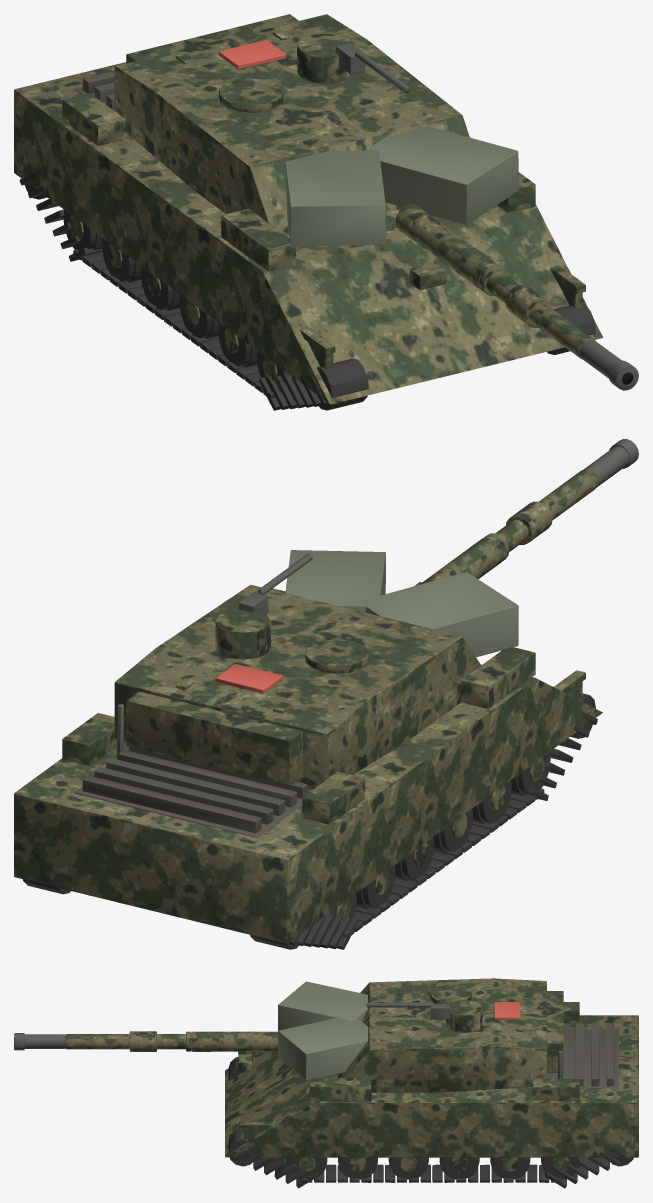
The model's file is mbt_e6_cn_ztz99a_LOD1.glb.
The picture shows the model from 3 angles, top to bottom: view 1: azimuth 30°, elevation 25°; view 2: azimuth 150°, elevation 25°; view 3: azimuth 270°, elevation 25°; orthographic projection. The views are drawn at different scales.
Visible parts, largest first — view 1: mbt_e6_cn_ztz99a_LOD1_body, mbt_e6_cn_ztz99a_LOD1_era, mbt_e6_cn_ztz99a_LOD1_track, mbt_e6_cn_ztz99a_LOD1_gun, mbt_e6_cn_ztz99a_LOD1_team, mbt_e6_cn_ztz99a_LOD1_deck; view 2: mbt_e6_cn_ztz99a_LOD1_body, mbt_e6_cn_ztz99a_LOD1_era, mbt_e6_cn_ztz99a_LOD1_deck, mbt_e6_cn_ztz99a_LOD1_track, mbt_e6_cn_ztz99a_LOD1_gun, mbt_e6_cn_ztz99a_LOD1_team; view 3: mbt_e6_cn_ztz99a_LOD1_body, mbt_e6_cn_ztz99a_LOD1_track, mbt_e6_cn_ztz99a_LOD1_era, mbt_e6_cn_ztz99a_LOD1_deck, mbt_e6_cn_ztz99a_LOD1_gun, mbt_e6_cn_ztz99a_LOD1_team.
Part boxes in pixels (bbox=[...]): mbt_e6_cn_ztz99a_LOD1_body: bbox=[14, 14, 602, 404]; mbt_e6_cn_ztz99a_LOD1_era: bbox=[285, 126, 518, 246]; mbt_e6_cn_ztz99a_LOD1_track: bbox=[19, 173, 595, 410]; mbt_e6_cn_ztz99a_LOD1_gun: bbox=[133, 43, 638, 390]; mbt_e6_cn_ztz99a_LOD1_team: bbox=[218, 40, 286, 69]; mbt_e6_cn_ztz99a_LOD1_deck: bbox=[74, 71, 114, 110]; mbt_e6_cn_ztz99a_LOD1_body: bbox=[14, 469, 602, 943]; mbt_e6_cn_ztz99a_LOD1_era: bbox=[285, 550, 518, 657]; mbt_e6_cn_ztz99a_LOD1_deck: bbox=[74, 747, 313, 837]; mbt_e6_cn_ztz99a_LOD1_track: bbox=[23, 686, 597, 949]; mbt_e6_cn_ztz99a_LOD1_gun: bbox=[117, 439, 638, 788]; mbt_e6_cn_ztz99a_LOD1_team: bbox=[215, 664, 282, 693]; mbt_e6_cn_ztz99a_LOD1_body: bbox=[65, 978, 638, 1171]; mbt_e6_cn_ztz99a_LOD1_track: bbox=[228, 1057, 633, 1188]; mbt_e6_cn_ztz99a_LOD1_era: bbox=[278, 981, 367, 1080]; mbt_e6_cn_ztz99a_LOD1_deck: bbox=[513, 1023, 618, 1088]; mbt_e6_cn_ztz99a_LOD1_gun: bbox=[14, 984, 562, 1078]; mbt_e6_cn_ztz99a_LOD1_team: bbox=[494, 1002, 520, 1019].
Bounding box in the file's own units: 3.5 × 2.94 × 10.55.
7 materials, 1 textured.
